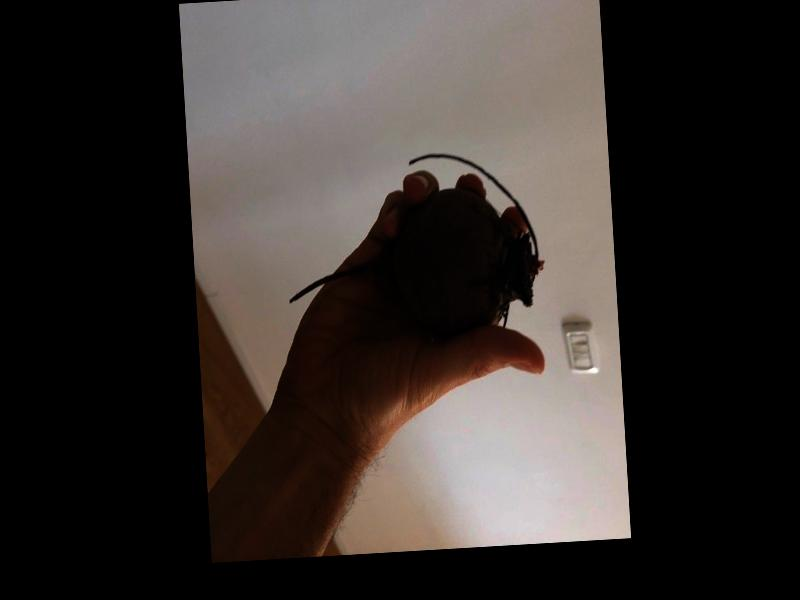Beet: (281, 146, 546, 342)
